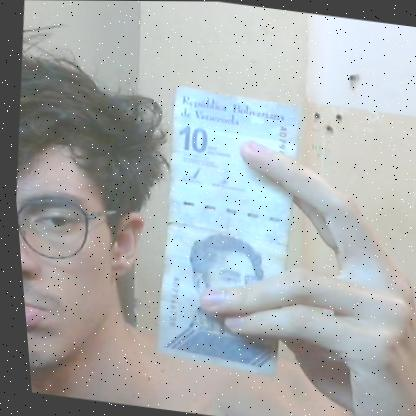ten-front-vef: (131, 84, 316, 378)
